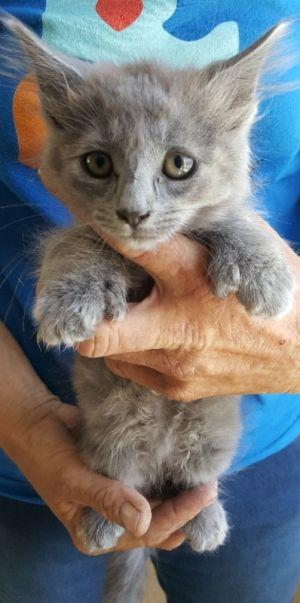rblue: (4, 1, 300, 288)
